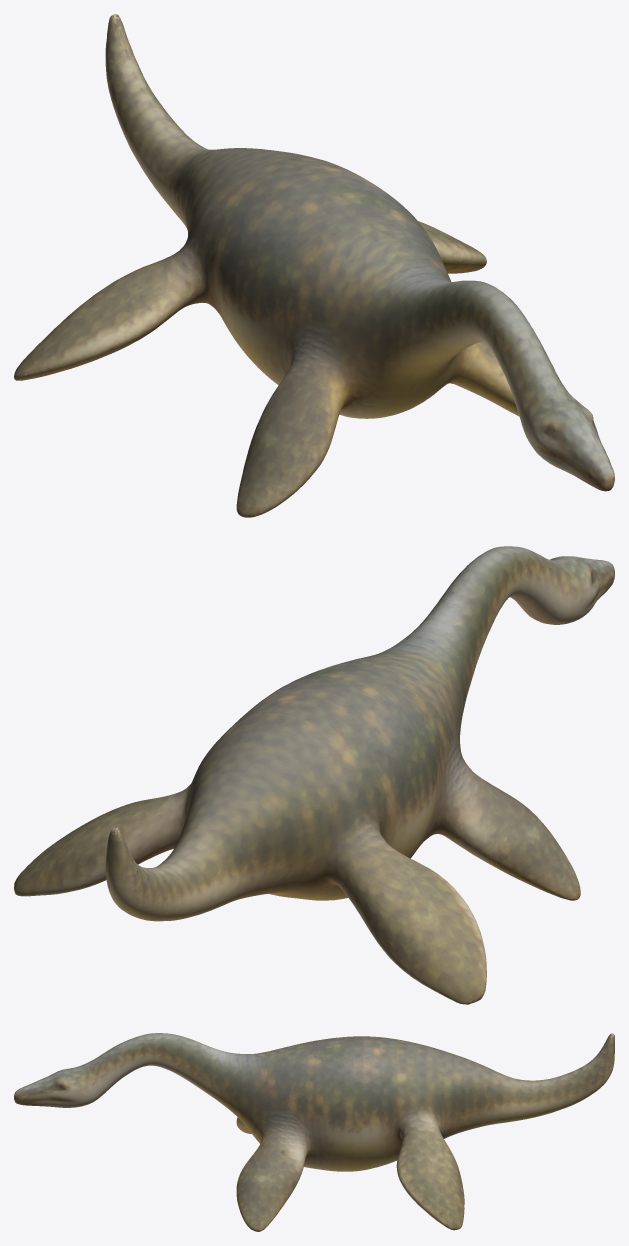
3 renders of one model, top to bottom at view 1: azimuth 30°, elevation 25°; view 2: azimuth 150°, elevation 25°; view 3: azimuth 270°, elevation 25°, orthographic. The views are drawn at different scales.
Parts seen in each view (by area): view 1: world; view 2: world; view 3: world.
Boxes of the visible parts, x1,y1,x2,y2 form: world: (14,14,614,517); world: (14,546,614,1004); world: (14,1033,614,1231).
Bounding box in the file's own units: 1.9 × 0.9568 × 3.5.
Materials: 1 (1 with a texture image).
